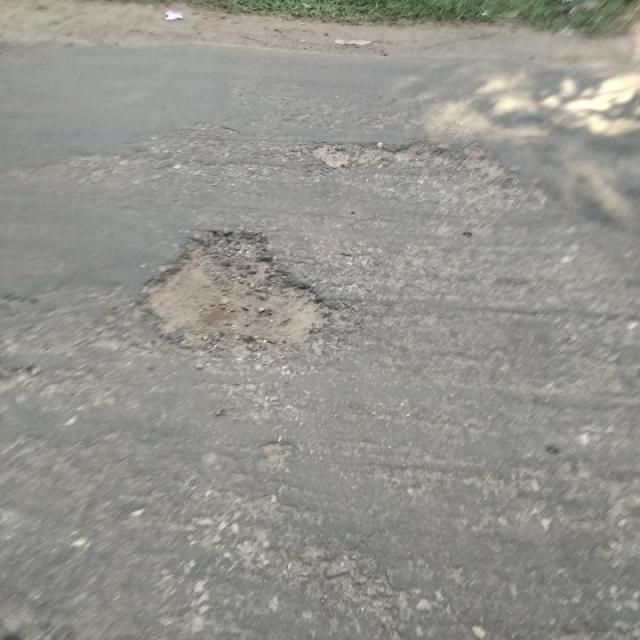Pothole: (141, 227, 348, 360), (305, 139, 459, 170)
